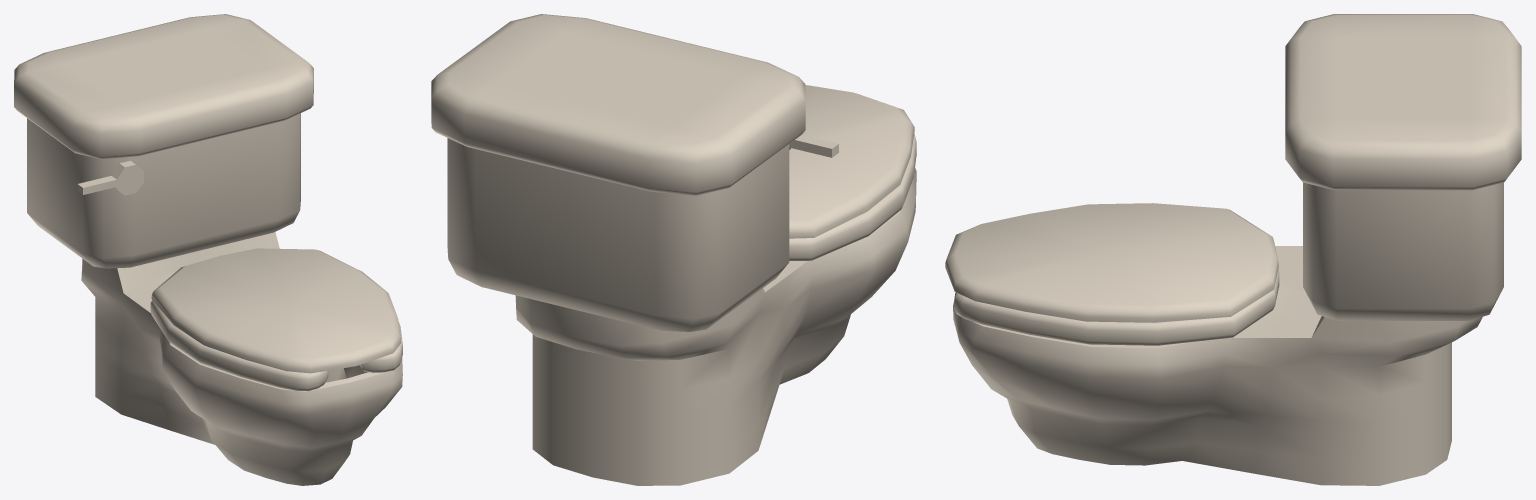
File: toilet.fbx
3 renders of one model, left to right at view 1: azimuth 30°, elevation 25°; view 2: azimuth 150°, elevation 25°; view 3: azimuth 270°, elevation 25°, orthographic. The views are drawn at different scales.
Visible parts, largest first — view 1: toilet, toiletlid, toilettrigger; view 2: toilet, toiletlid, toilettrigger; view 3: toilet, toiletlid.
Boxes of the visible parts, left/top/right/bottom form: toilet: left=14, top=14, right=402, bottom=485; toiletlid: left=151, top=248, right=400, bottom=373; toilettrigger: left=77, top=160, right=143, bottom=195; toilet: left=431, top=14, right=916, bottom=485; toiletlid: left=789, top=85, right=914, bottom=238; toilettrigger: left=789, top=135, right=838, bottom=157; toilet: left=953, top=14, right=1521, bottom=485; toiletlid: left=945, top=203, right=1278, bottom=322.
Bounding box in the file's own units: 1.83 × 2.13 × 3.07.
